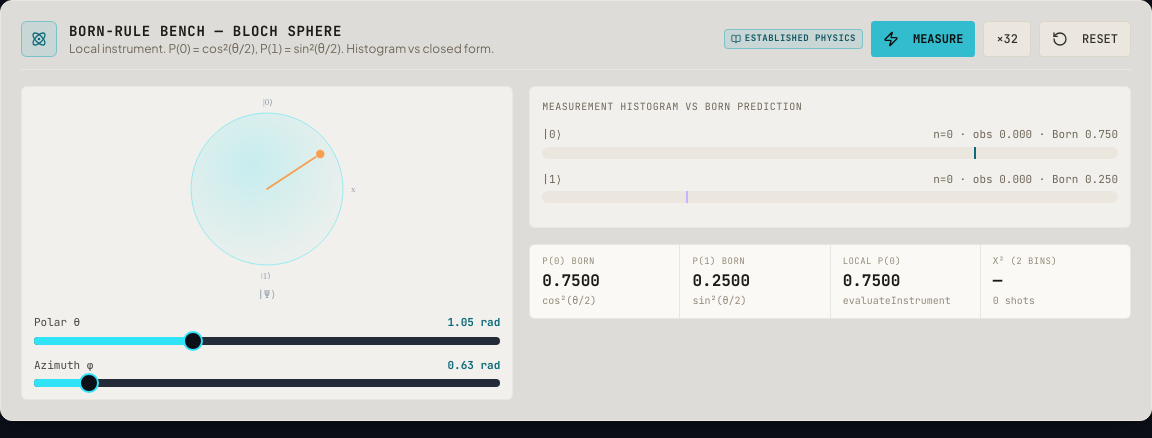
Scenario: Mode-gated local benches › renders the Born-rule bench with Bloch-sphere measurement controls
What coordinates should you click on to do the following:
click the button "MEASURE"
I would click on:
 (923, 39)
Its box is [871,21,975,57].
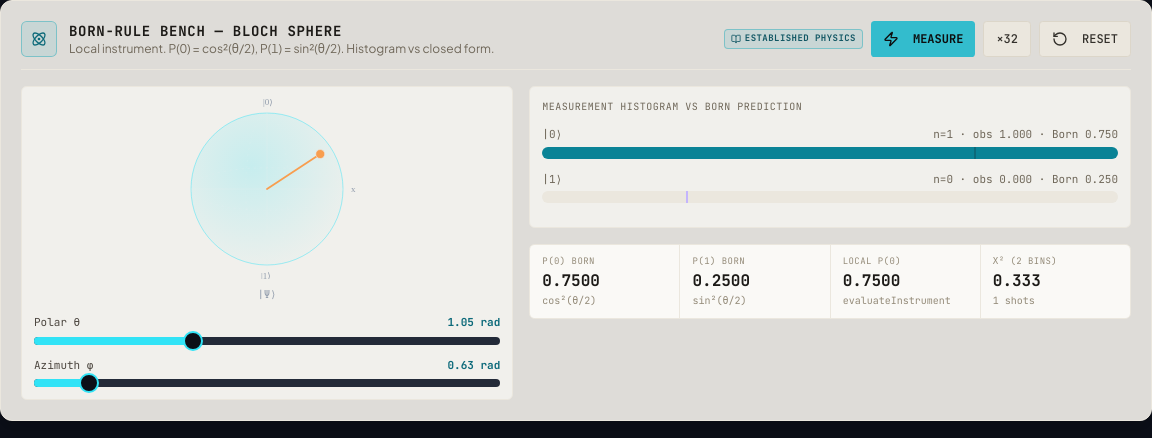
Expected: the text "n=1" is shown, [933,126,1118,142]
